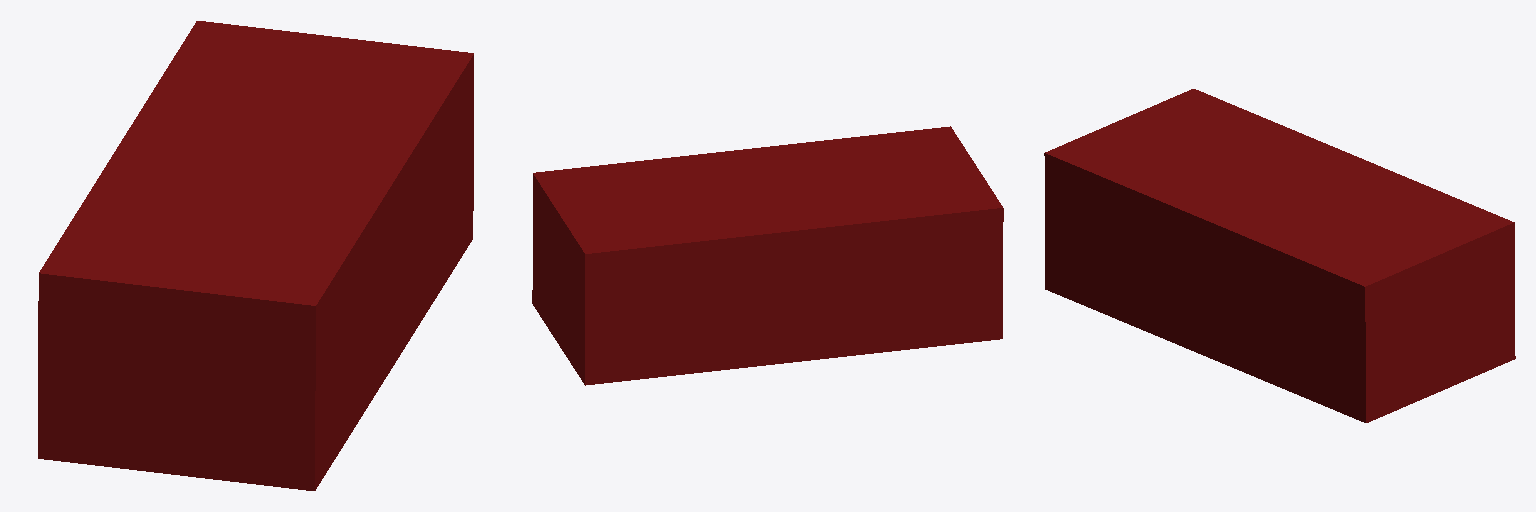
The robot description file, URDF, robot "baxter":
<?xml version="1.0" ?>
<robot name="baxter">
  <link name="base">
  </link>
  <link name="right_arm_mount">
    <inertial>
      <origin rpy="0 0 0" xyz="0 0 0"/>
      <mass value="0.00094542"/>
      <inertia ixx="2e-08" ixy="0" ixz="0" iyy="3e-08" iyz="0" izz="2e-08"/>
    </inertial>
  </link>
  <link name="right_upper_shoulder">
    <collision>
      <origin rpy="0 0 0" xyz="0 0 0.1361"/>
      <geometry>
        <cylinder length="0.2722" radius="0.06"/>
      </geometry>
    </collision>
    <inertial>
      <origin rpy="0 0 0" xyz="0.01783 0.00086 0.19127"/>
      <mass value="5.70044"/>
      <inertia ixx="0.04709102262" ixy="0.00012787556" ixz="0.00614870039" iyy="0.03766976455" iyz="0.00078086899" izz="0.03595988478"/>
    </inertial>
  </link>
  <link name="right_lower_shoulder">
    <collision>
      <origin rpy="0 0 0" xyz="0 0 0"/>
      <geometry>
        <cylinder length="0.12" radius="0.06"/>
      </geometry>
    </collision>
    <inertial>
      <origin rpy="0 0 0" xyz="0.06845 0.00269 -0.00529"/>
      <mass value="3.22698"/>
      <inertia ixx="0.01175209419" ixy="-0.00030096398" ixz="0.00207675762" iyy="0.0278859752" iyz="-0.00018821993" izz="0.02078749298"/>
    </inertial>
  </link>
  <link name="right_upper_elbow">
    <collision>
      <origin rpy="0 0 0" xyz="0 0 -0.0535"/>
      <geometry>
        <cylinder length="0.107" radius="0.06"/>
      </geometry>
    </collision>
    <inertial>
      <origin rpy="0 0 0" xyz="-0.00276 0.00132 0.18086"/>
      <mass value="4.31272"/>
      <inertia ixx="0.02661733557" ixy="0.00029270634" ixz="0.00392189887" iyy="0.02844355207" iyz="0.0010838933" izz="0.01248008322"/>
    </inertial>
  </link>
  <link name="right_lower_elbow">
    <collision>
      <origin rpy="0 0 0" xyz="0.0 0.0 0.0"/>
      <geometry>
        <cylinder length="0.10" radius="0.06"/>
      </geometry>
    </collision>
    <inertial>
      <origin rpy="0 0 0" xyz="0.02611 0.00159 -0.01117"/>
      <mass value="2.07206"/>
      <inertia ixx="0.00711582686" ixy="0.00036036173" ixz="0.0007459496" iyy="0.01318227876" iyz="-0.00019663418" izz="0.00926852064"/>
    </inertial>
  </link>
  <link name="right_upper_forearm">
    <collision>
      <origin rpy="0 0 0" xyz="0 0 -0.044"/>
      <geometry>
        <cylinder length="0.088" radius="0.06"/>
      </geometry>
    </collision>
    <inertial>
      <origin rpy="0 0 0" xyz="-0.00168 0.0046 0.13952"/>
      <mass value="2.24665"/>
      <inertia ixx="0.01667742825" ixy="0.00018403705" ixz="0.00018657629" iyy="0.01675457264" iyz="-0.00064732352" izz="0.0037463115"/>
    </inertial>
  </link>
  <link name="right_lower_forearm">
    <collision>
      <origin rpy="0 0 0" xyz="0 0 0"/>
      <geometry>
        <cylinder length="0.10" radius="0.06"/>
      </geometry>
    </collision>
    <inertial>
      <origin rpy="0 0 0" xyz="0.06041 0.00697 0.006"/>
      <mass value="1.60979"/>
      <inertia ixx="0.00387607152" ixy="-0.00044384784" ixz="-0.00021115038" iyy="0.00700537914" iyz="0.00015348067" izz="0.0055275524"/>
    </inertial>
  </link>
  <link name="right_wrist">
    <collision>
      <origin rpy="0 0 0" xyz="0 0 0"/>
      <geometry>
        <cylinder length="0.165" radius="0.06"/>
      </geometry>
    </collision>
    <inertial>
      <origin rpy="0 0 0" xyz="0.00198 0.00125 0.01855"/>
      <mass value="0.35093"/>
      <inertia ixx="0.00025289155" ixy="0.00000575311" ixz="-0.00000159345" iyy="0.0002688601" iyz="-0.00000519818" izz="0.0003074118"/>
    </inertial>
  </link>
  <link name="right_hand">
    <collision>
      <origin rpy="0 0 0" xyz="0 0 -0.0232"/>
      <geometry>
        <cylinder length="0.0464" radius="0.04"/>
      </geometry>
    </collision>
    <inertial>
      <origin rpy="0 0 0" xyz="0.01093 0.00042 -0.01532"/>
      <mass value="0.19125"/>
      <inertia ixx="0.00017588" ixy="0.00000147073" ixz="0.0000243633" iyy="0.00021166377" iyz="0.00000172689" izz="0.00023745397"/>
    </inertial>
  </link>
  <link name="right_gripper">
    <visual>
      <origin rpy="0 0 0" xyz="0 0 -0.02"/>
      <geometry>
        <box size="0.025 0.075 0.035"/>
      </geometry>
      <material name="darkred">
        <color rgba=".5 .1 .1 1"/>
      </material>
    </visual>
    <inertial>
      <origin rpy="0 0 0" xyz="0.000000 0.000000 0.000000"/>
      <mass value="0.00094542"/>
      <inertia ixx="2e-08" ixy="0" ixz="0" iyy="3e-08" iyz="0" izz="2e-08"/>
    </inertial>
  </link>
  <joint name="right_torso_arm_mount" type="fixed">
    <origin rpy="0.0029487654568 0.00610368126069 -0.784090817518" xyz="0.0247288398034 -0.220050428085 0.108767751469"/>
    <parent link="base"/>
    <child link="right_arm_mount"/>
  </joint>
  <joint name="right_s0" type="revolute">
    <origin rpy="0 0 0" xyz="0.055695 0 0.011038"/>
    <axis xyz="0 0 1"/>
    <parent link="right_arm_mount"/>
    <child link="right_upper_shoulder"/>
    <limit effort="60.0" lower="-1.70167993878" upper="1.70167993878" velocity="2.5"/>
    <dynamics damping="0.7" friction="0.0"/>
  </joint>
  <joint name="right_s1" type="revolute">
    <origin rpy="-1.57079632679 0 0" xyz="0.069 0 0.27035"/>
    <axis xyz="0 0 1"/>
    <parent link="right_upper_shoulder"/>
    <child link="right_lower_shoulder"/>
    <limit effort="60.0" lower="-2.147" upper="1.047" velocity="2.5"/>
    <dynamics damping="0.7" friction="0.0"/>
  </joint>
  <joint name="right_e0" type="revolute">
    <origin rpy="1.57079632679 0 1.57079632679" xyz="0.102 0 0"/>
    <axis xyz="0 0 1"/>
    <parent link="right_lower_shoulder"/>
    <child link="right_upper_elbow"/>
    <limit effort="60.0" lower="-3.05417993878" upper="3.05417993878" velocity="2.5"/>
    <dynamics damping="0.7" friction="0.0"/>
  </joint>
  <joint name="right_e1" type="revolute">
    <origin rpy="-1.57079632679 -1.57079632679 0" xyz="0.069 0 0.26242"/>
    <axis xyz="0 0 1"/>
    <parent link="right_upper_elbow"/>
    <child link="right_lower_elbow"/>
    <limit effort="60.0" lower="-0.05" upper="2.618" velocity="2.5"/>
    <dynamics damping="0.7" friction="0.0"/>
  </joint>
  <joint name="right_w0" type="revolute">
    <origin rpy="1.57079632679 0 1.57079632679" xyz="0.10359 0 0"/>
    <axis xyz="0 0 1"/>
    <parent link="right_lower_elbow"/>
    <child link="right_upper_forearm"/>
    <limit effort="20.0" lower="-3.059" upper="3.059" velocity="5.0"/>
    <dynamics damping="0.7" friction="0.0"/>
  </joint>
  <joint name="right_w1" type="revolute">
    <origin rpy="-1.57079632679 -1.57079632679 0" xyz="0.01 0 0.2707"/>
    <axis xyz="0 0 1"/>
    <parent link="right_upper_forearm"/>
    <child link="right_lower_forearm"/>
    <limit effort="20.0" lower="-1.57079632679" upper="2.094" velocity="5.0"/>
    <dynamics damping="0.7" friction="0.0"/>
  </joint>
  <joint name="right_w2" type="revolute">
    <origin rpy="1.57079632679 0 1.57079632679" xyz="0.115975 0 0"/>
    <axis xyz="0 0 1"/>
    <parent link="right_lower_forearm"/>
    <child link="right_wrist"/>
    <limit effort="20.0" lower="-3.059" upper="3.059" velocity="5.0"/>
    <dynamics damping="0.7" friction="0.0"/>
  </joint>
  <joint name="right_hand" type="fixed">
    <origin rpy="0 0 0" xyz="0 0 0.11355"/>
    <axis xyz="0 0 1"/>
    <parent link="right_wrist"/>
    <child link="right_hand"/>
    <dynamics damping="0.7" friction="0.0"/>
  </joint>
  <joint name="right_endpoint" type="fixed">
    <origin rpy="0 0 0" xyz="0.0 0 0.05"/>
    <parent link="right_hand"/>
    <child link="right_gripper"/>
  </joint>
</robot>

--- Render facts (derived) ---
Views: 3 orthographic renders of the robot side by side, from view 1: azimuth 30°, elevation 25°; view 2: azimuth 150°, elevation 25°; view 3: azimuth 270°, elevation 25°.
Model baxter with 11 links and 10 joints (7 revolute, 3 fixed), rooted at base, posed every joint at zero.
Links seen in each view (by area): view 1: right_gripper; view 2: right_gripper; view 3: right_gripper.
Boxes of the visible links, <box> form: right_gripper: <box>38,21,473,490</box>; right_gripper: <box>532,126,1003,385</box>; right_gripper: <box>1044,89,1515,422</box>.
Bounding box of the posed robot: 0.0778 × 0.078 × 0.0254 m (x, y, z).
Geometry: primitives only (box / cylinder / sphere), no mesh files.